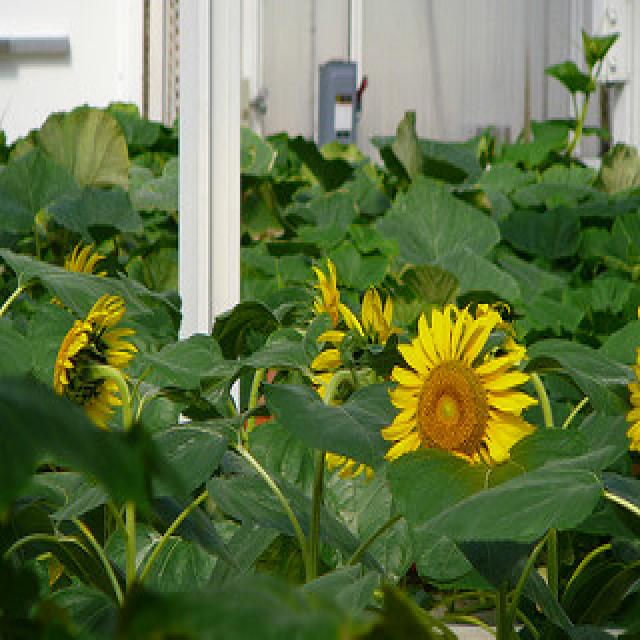sunflower: (382, 296, 530, 475)
